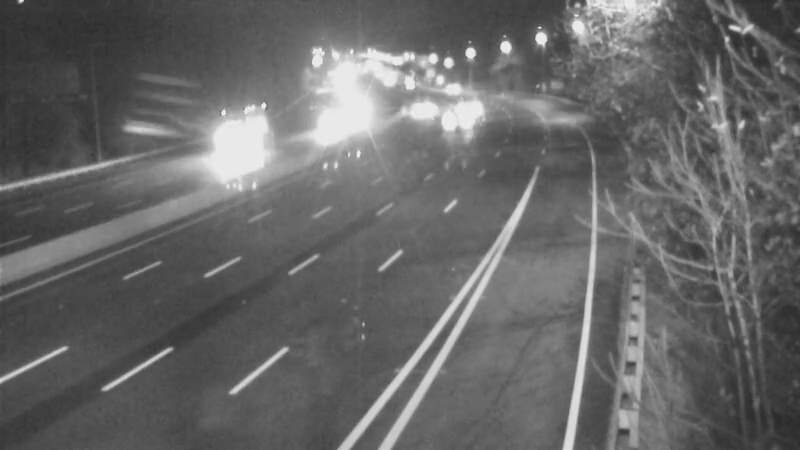vehicle: (386, 60, 436, 110), (424, 62, 474, 112), (447, 80, 497, 130), (397, 81, 447, 131), (437, 94, 487, 144), (208, 116, 258, 166), (204, 125, 254, 175), (305, 102, 355, 152), (328, 85, 378, 135)
